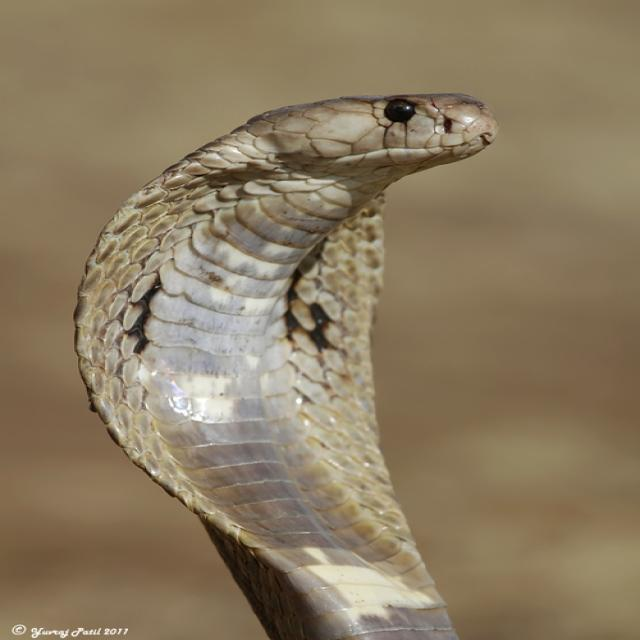Snake: (72, 91, 500, 638)
